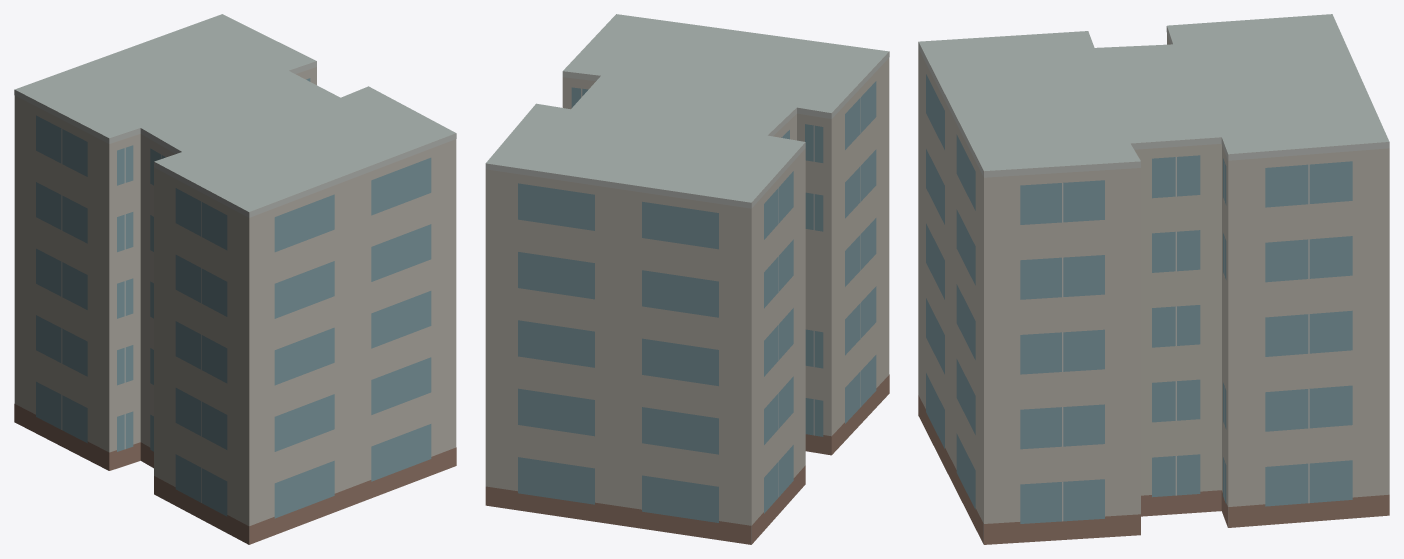
File: survey-upis-32528594.glb
3 views of the same model, side by side, from view 1: azimuth 30°, elevation 25°; view 2: azimuth 150°, elevation 25°; view 3: azimuth 270°, elevation 25° (orthographic). The views are drawn at different scales.
Parts seen in each view (by area): view 1: survey-upis-32528594.tmp; view 2: survey-upis-32528594.tmp; view 3: survey-upis-32528594.tmp.
Boxes of the visible parts, <box> form: survey-upis-32528594.tmp: <box>14,14,456,544</box>; survey-upis-32528594.tmp: <box>485,14,889,544</box>; survey-upis-32528594.tmp: <box>918,14,1389,544</box>.
Bounding box in the file's own units: 12.64 × 14 × 16.01.
